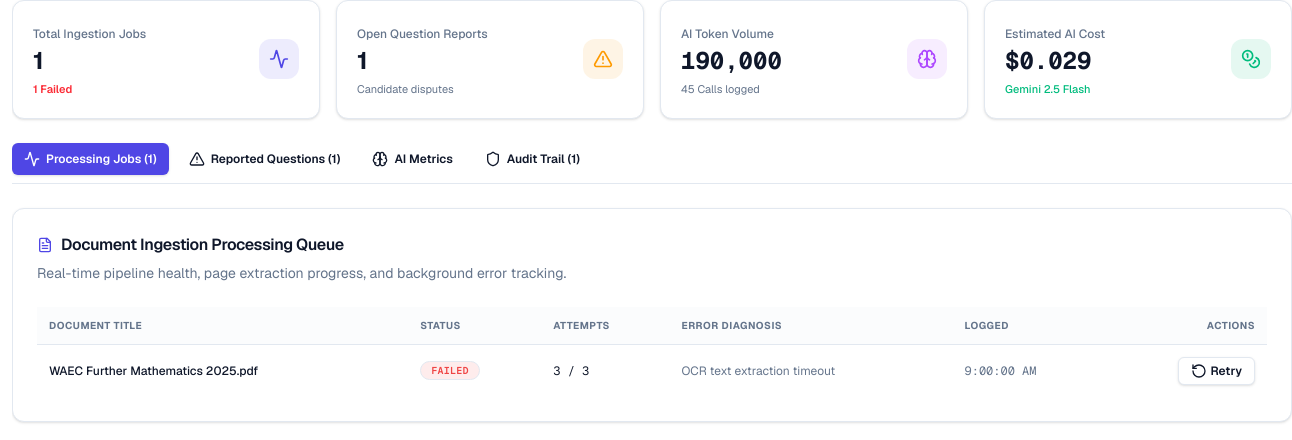
Test case: AdminConsoleClient Component › switches to Audit Trail tab and displays consequential action log
The image size is (1292, 440).
Click the tab "Audit Trail (1)". click: x=532, y=158
box: left=473, top=142, right=592, bottom=174
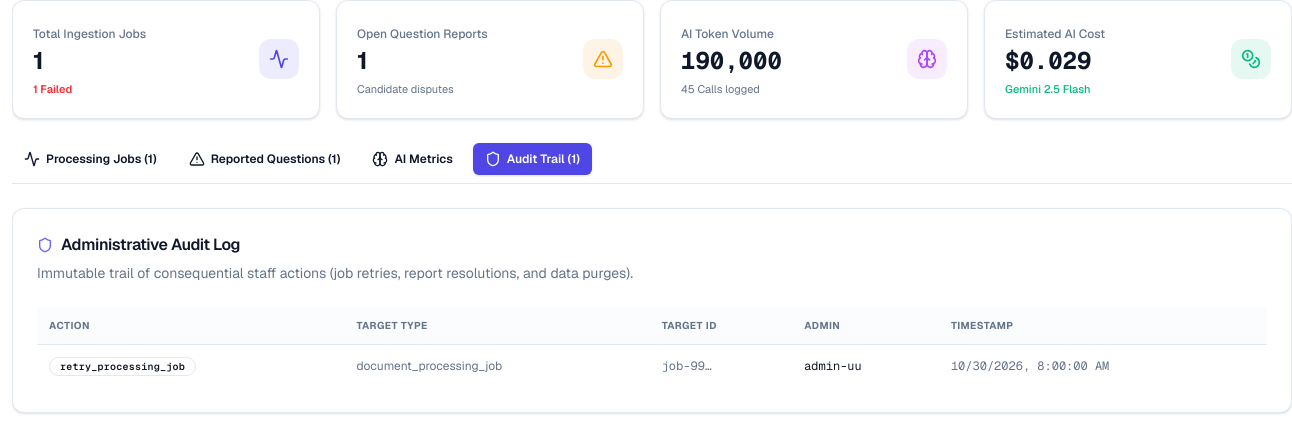
Result: the heading "Administrative Audit Log" is shown at left=37, top=234, right=240, bottom=254
Result: the text "retry_processing_job" is shown at left=49, top=357, right=196, bottom=376
Result: the text "document_processing_job" is shown at left=344, top=344, right=650, bottom=388
